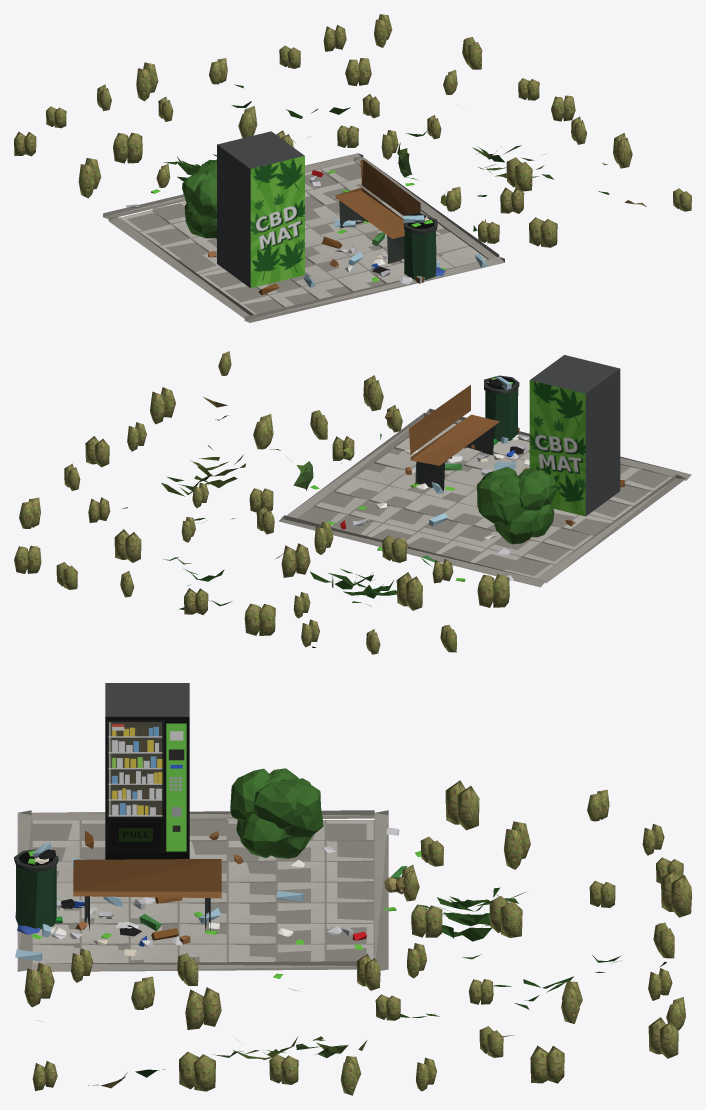
Rendered from automat.glb.
The picture shows the model from 3 angles, top to bottom: view 1: azimuth 30°, elevation 25°; view 2: azimuth 150°, elevation 25°; view 3: azimuth 270°, elevation 25°; orthographic projection. The views are drawn at different scales.
Visible parts, largest first — view 1: dum, plevel_31, plevel_11, plevel_03, plevel_10, plevel_07, plevel_17, plevel_25, plevel_29, plevel_04, plevel_24, plevel_06 (+1 smaller); view 2: dum, plevel_10, plevel_07, plevel_31, plevel_01, plevel_17, plevel_04, plevel_28, plevel_29, plevel_19, plevel_16, plevel_24 (+5 smaller); view 3: dum, noc, plevel_10, plevel_04, plevel_03, plevel_07, plevel_24, plevel_01, plevel_28, plevel_11, plevel_31, plevel_22 (+5 smaller).
Part boxes in pixels (<box>): dum: <box>103,84,646,322</box>; plevel_31: <box>113,132,142,163</box>; plevel_11: <box>529,217,557,247</box>; plevel_03: <box>506,157,532,191</box>; plevel_10: <box>78,158,100,198</box>; plevel_07: <box>136,62,158,101</box>; plevel_17: <box>345,58,371,86</box>; plevel_25: <box>500,187,524,213</box>; plevel_29: <box>551,95,575,121</box>; plevel_04: <box>613,133,632,168</box>; plevel_24: <box>462,37,482,69</box>; plevel_06: <box>323,25,346,51</box>; dum: <box>122,355,691,647</box>; plevel_10: <box>477,574,509,607</box>; plevel_07: <box>244,603,275,635</box>; plevel_31: <box>396,572,422,610</box>; plevel_01: <box>281,543,310,577</box>; plevel_17: <box>114,529,141,562</box>; plevel_04: <box>150,387,175,424</box>; plevel_28: <box>14,545,41,573</box>; plevel_29: <box>85,436,109,467</box>; plevel_19: <box>382,535,406,562</box>; plevel_16: <box>184,588,208,614</box>; plevel_24: <box>19,497,40,528</box>; dum: <box>14,683,666,1088</box>; noc: <box>105,717,189,859</box>; plevel_10: <box>445,780,479,830</box>; plevel_04: <box>179,1052,215,1091</box>; plevel_03: <box>185,987,221,1029</box>; plevel_07: <box>661,869,691,917</box>; plevel_24: <box>530,1045,564,1083</box>; plevel_01: <box>489,896,522,937</box>; plevel_28: <box>648,1017,678,1058</box>; plevel_11: <box>24,963,54,1007</box>; plevel_31: <box>503,821,530,869</box>; plevel_22: <box>411,905,442,937</box>.
Bounding box in the file's own units: 14.42 × 4.2 × 14.59.
1 material, 1 textured.
